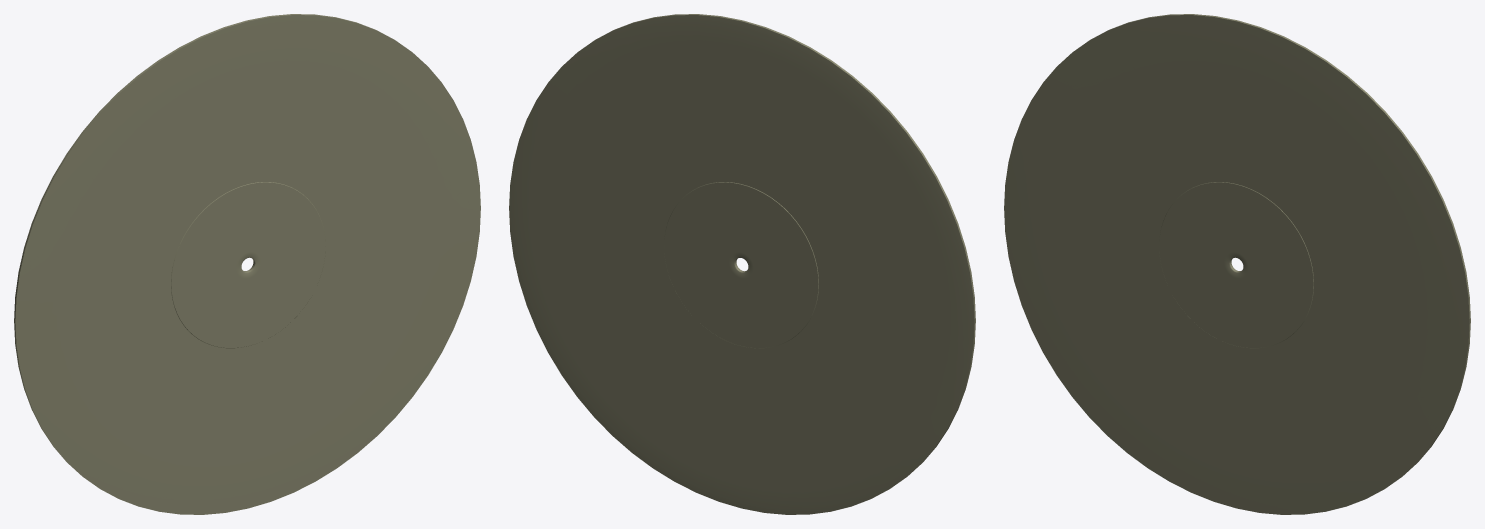
3 renders of one model, left to right at view 1: azimuth 30°, elevation 25°; view 2: azimuth 150°, elevation 25°; view 3: azimuth 330°, elevation 25°, orthographic.
Parts seen in each view (by area): view 1: tracks, label; view 2: tracks, label; view 3: tracks, label.
Boxes of the visible parts, x1,y1,x2,y2 form: tracks: (14, 14, 480, 514); label: (171, 182, 325, 348); tracks: (509, 14, 975, 514); label: (664, 182, 818, 348); tracks: (1004, 14, 1470, 514); label: (1159, 182, 1313, 348).
Size of the model in its own units: 0.3048 by 0.3048 by 0.0025.
